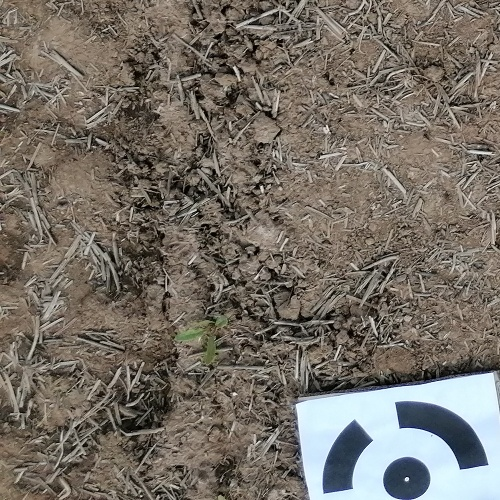beet: (175, 317, 228, 364)
